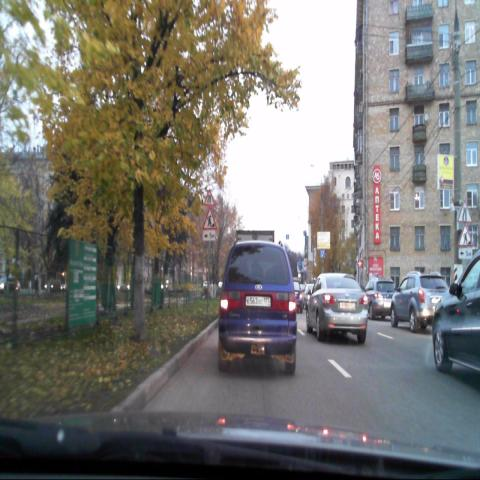1_20_3: (457, 200, 471, 223), (203, 188, 215, 206)
1_25: (458, 223, 473, 248), (202, 208, 216, 231)
8_1_4: (458, 247, 473, 260), (202, 230, 216, 242)
